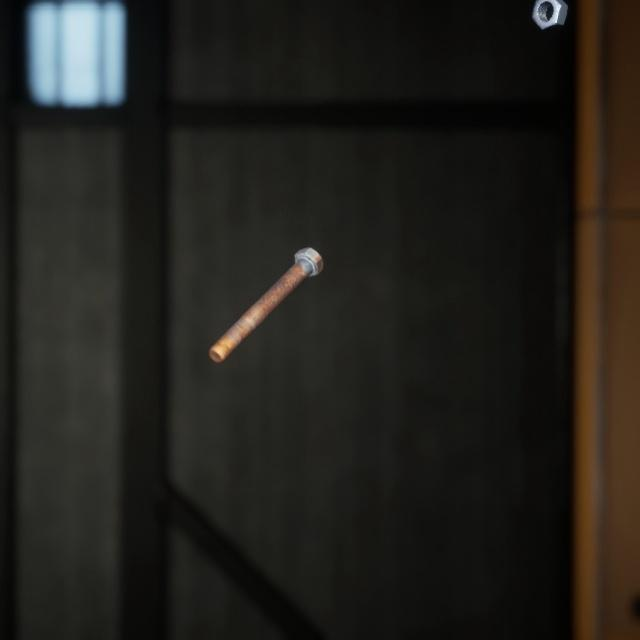bolt: (204, 225, 327, 348)
nut: (527, 0, 572, 28)
